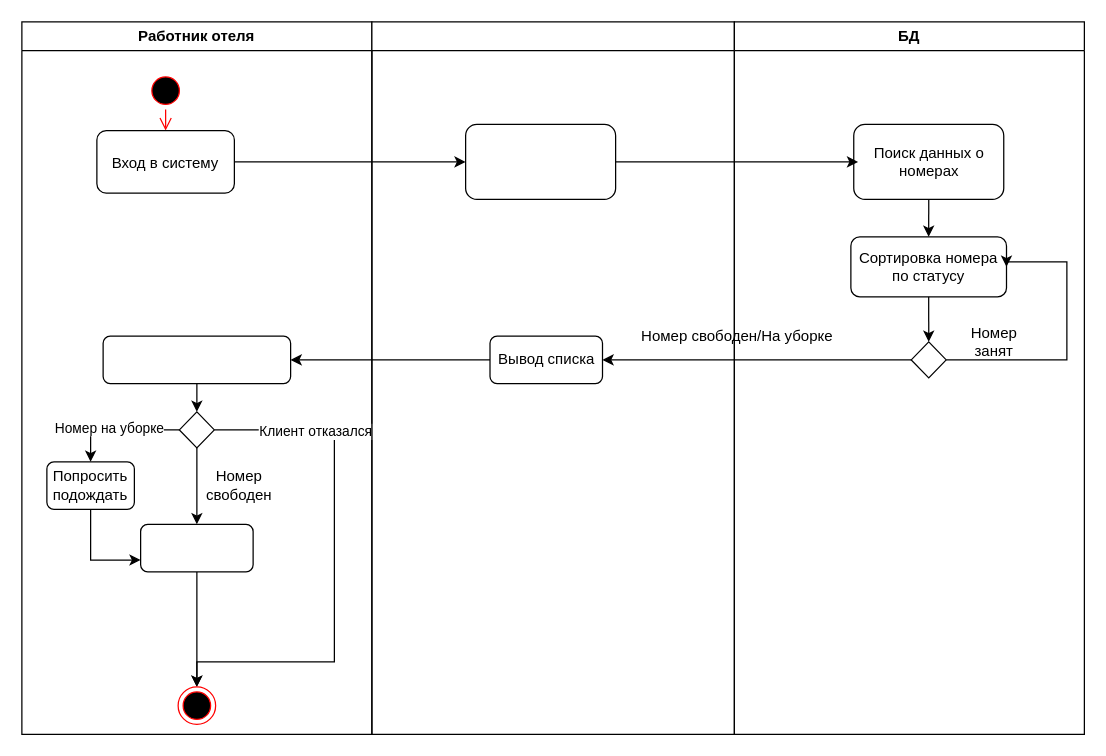
Image size: 1106x756. Some labels were removed from this diagram. The shapes that lost their labels are listed below. From the top down, each one's box as (x1, y1, x2, y2) in pixels, then its label:
(464, 123, 616, 199): Запрос данных по номерам
(102, 335, 291, 384): Предложение клиенту номера из списка
(371, 21, 734, 734): Сайт гостиницы
(139, 523, 253, 572): Оформить клиента
